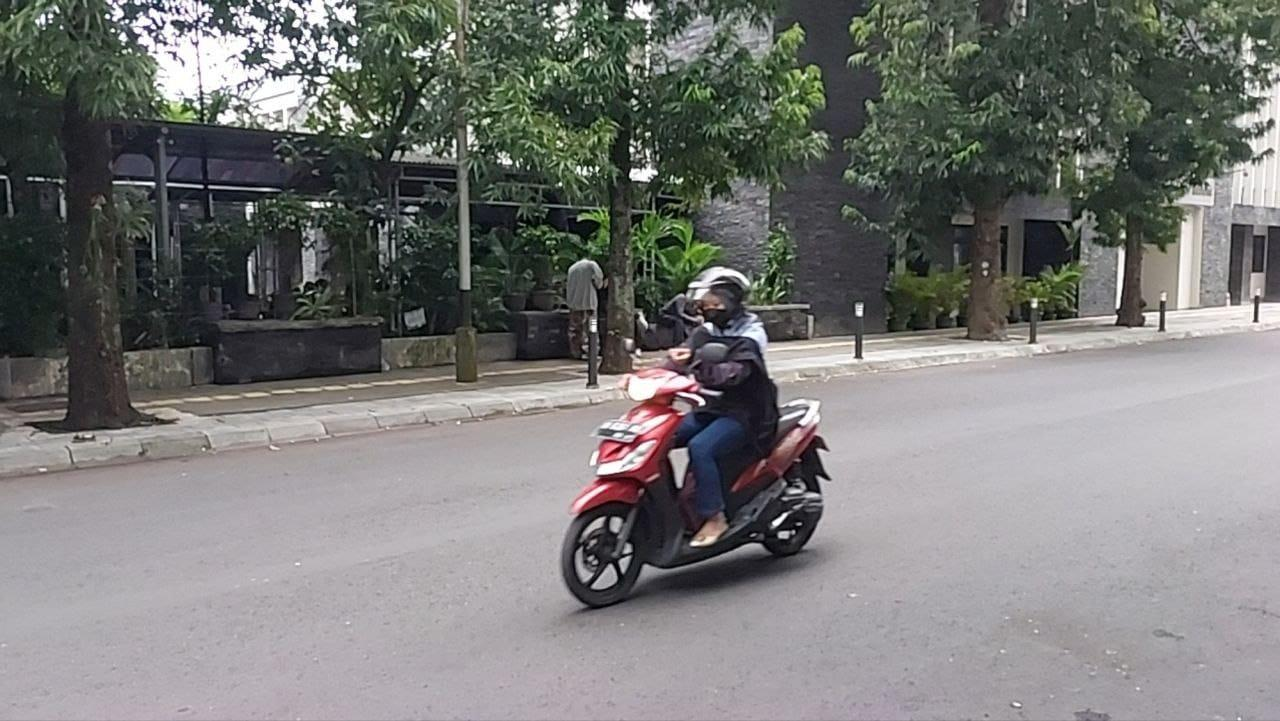helm: (684, 266, 753, 328)
riding: (559, 264, 835, 609)
